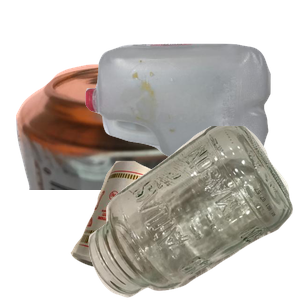glass: (86, 126, 300, 300)
metal: (13, 61, 240, 241)
plastic: (83, 41, 300, 194)
trash: (68, 158, 235, 300)
